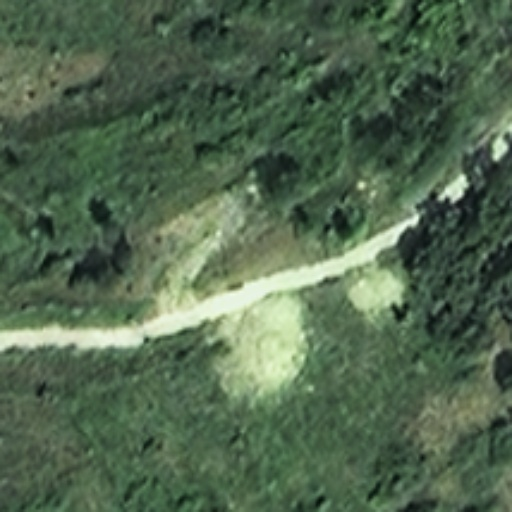landslide: (210, 290, 308, 402), (345, 256, 409, 319)
